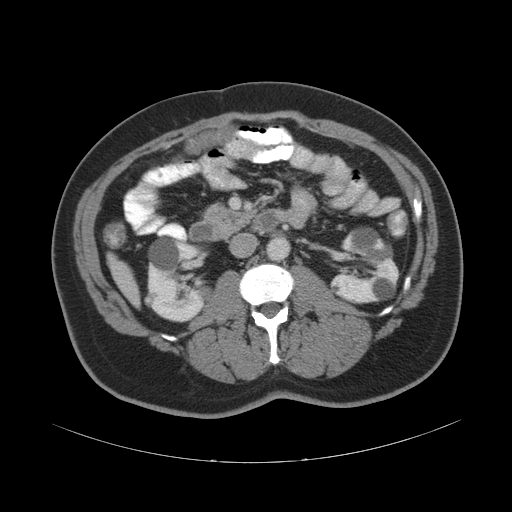Lesion: (141, 286, 159, 311)
